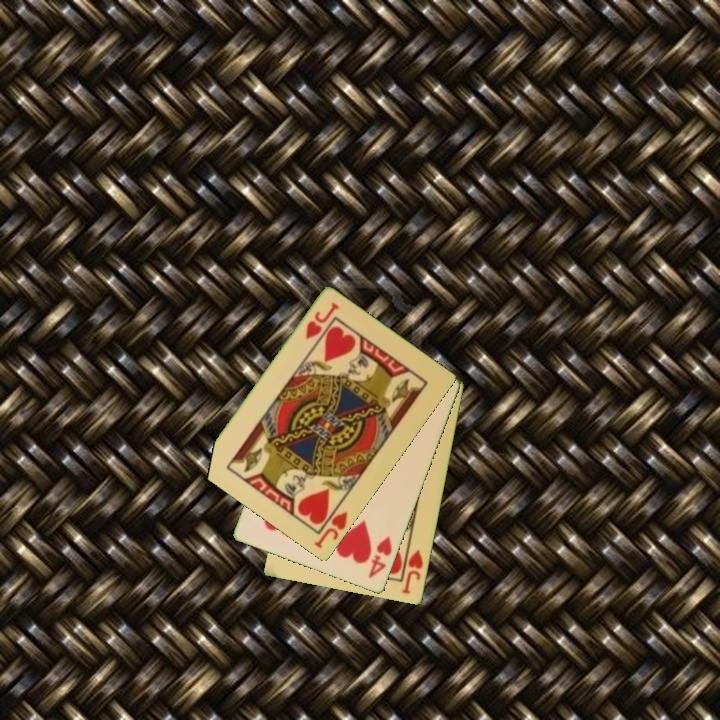4h: (365, 533, 395, 582)
Jh: (310, 508, 351, 552), (302, 299, 342, 343), (399, 541, 426, 597)
